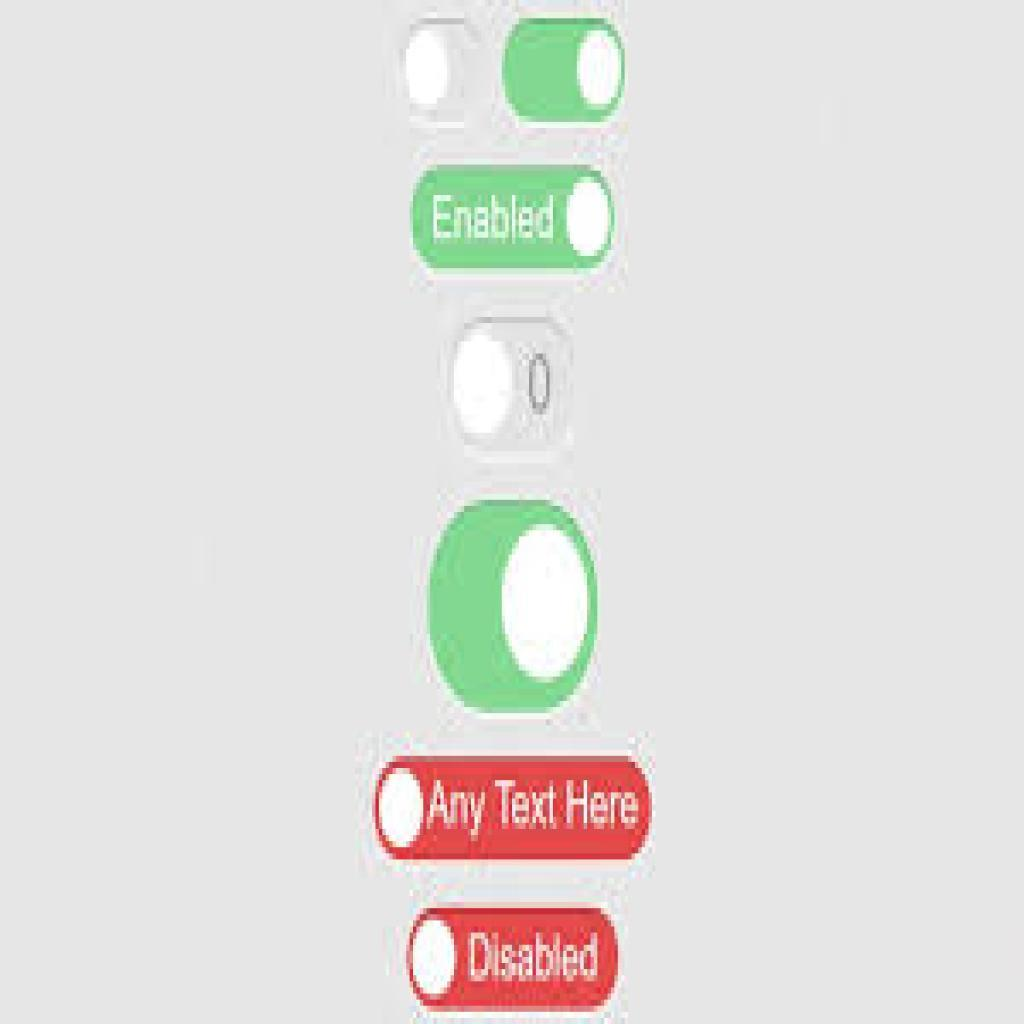switch: (424, 499, 603, 715), (447, 318, 579, 455), (500, 16, 631, 128), (402, 12, 490, 124)
